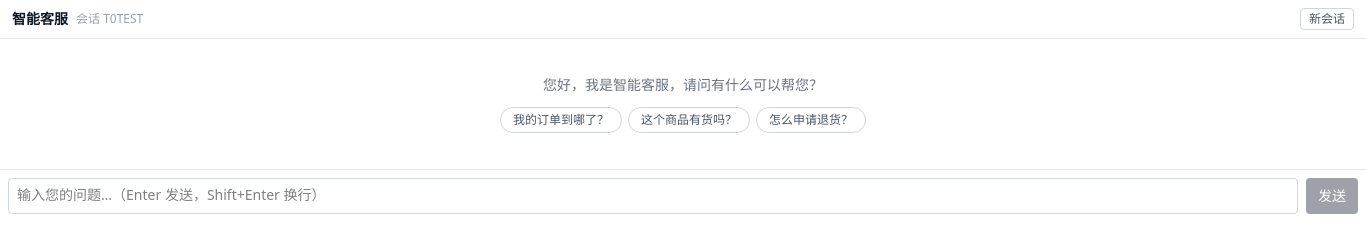
Test: SupportPanel › 思考过程折叠展示
Type "hi" into the text box with placeholder "输入您的问题…（Enter 发送，Shift+Enter 换行）". click: (653, 196)
box: [8, 178, 1298, 214]
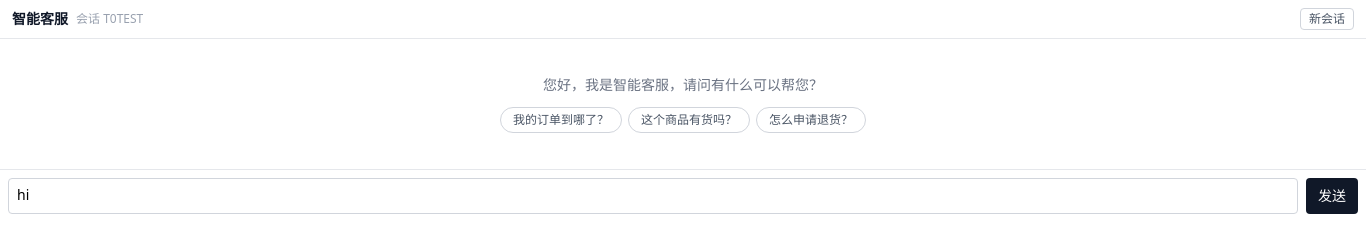
Click the button "发送". click: (1332, 196)
box: [1306, 178, 1358, 214]
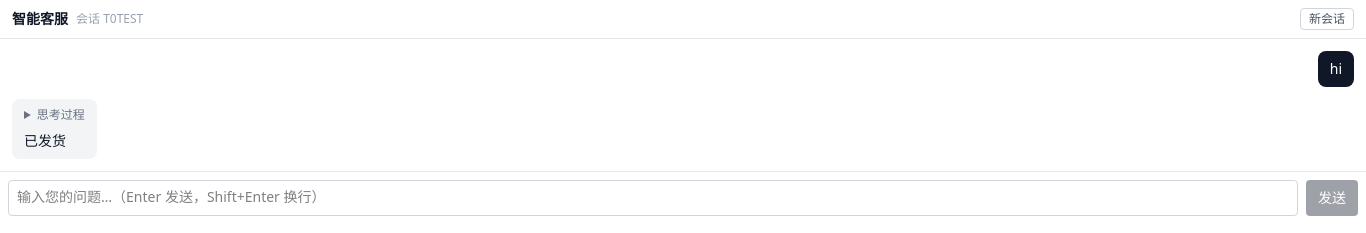
Result: the heading "思考过程" is shown at [37, 106, 85, 123]
